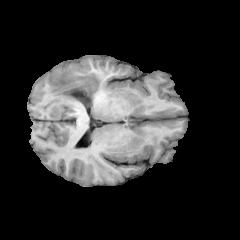glioma: (48, 71, 141, 104)
